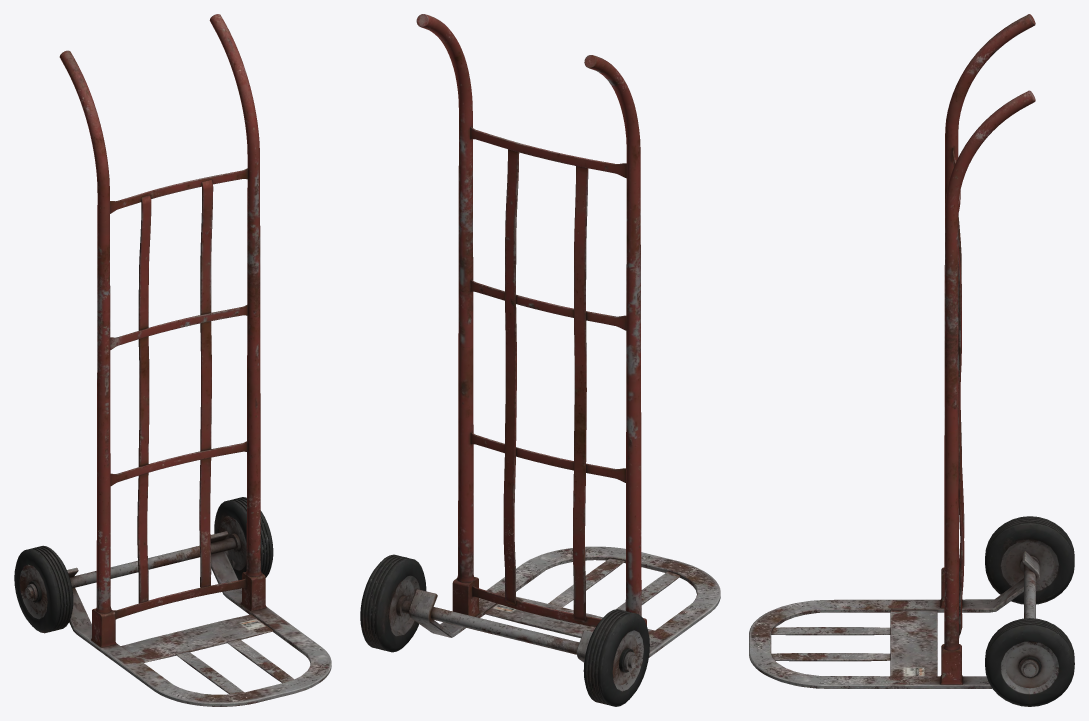
Rendered from hand_truck.glb.
3 views of the same model, side by side, from view 1: azimuth 30°, elevation 25°; view 2: azimuth 150°, elevation 25°; view 3: azimuth 270°, elevation 25° (orthographic). The views are drawn at different scales.
Parts seen in each view (by area): view 1: hand_truck; view 2: hand_truck; view 3: hand_truck.
Part boxes in pixels (bbox=[...]): hand_truck: bbox=[14, 14, 331, 706]; hand_truck: bbox=[360, 14, 720, 706]; hand_truck: bbox=[749, 14, 1074, 706].
Bounding box in the file's own units: 0.5933 × 1.4 × 0.6926.
Materials: 1 (1 with a texture image).
